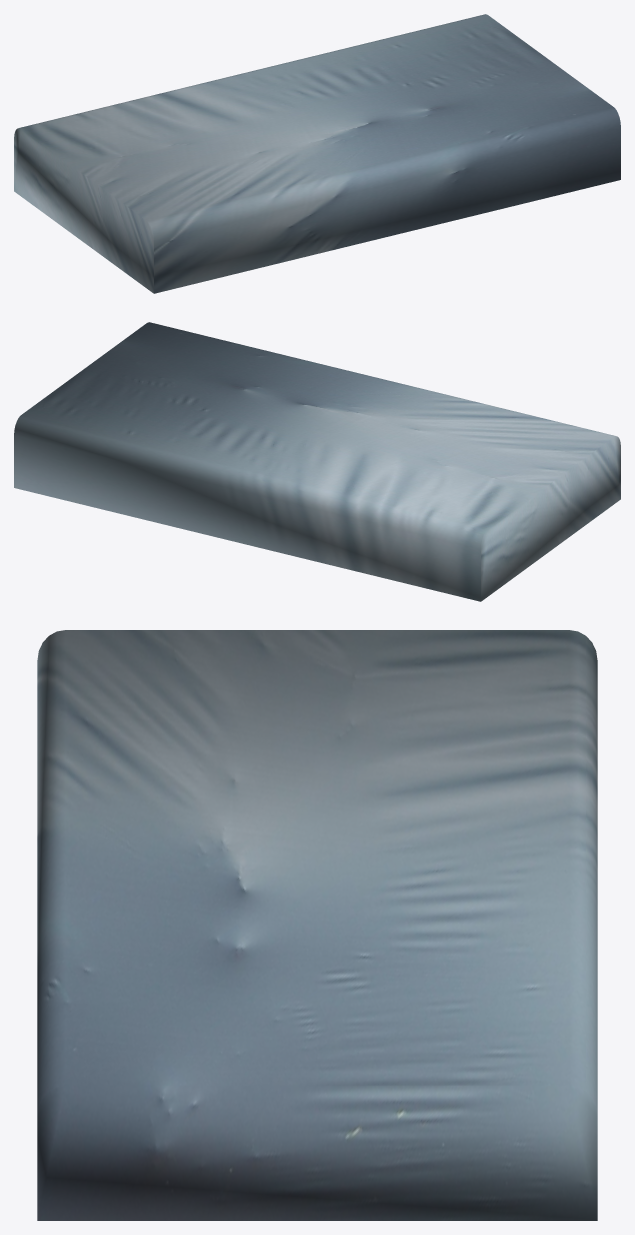
File: bed.dae
3 renders of one model, top to bottom at view 1: azimuth 30°, elevation 25°; view 2: azimuth 150°, elevation 25°; view 3: azimuth 270°, elevation 25°, orthographic. The views are drawn at different scales.
Visible parts, largest first — view 1: Cube; view 2: Cube; view 3: Cube.
Part boxes in pixels (x1,y1,x2,y2): Cube: (14,14,620,293); Cube: (14,322,620,601); Cube: (37,630,597,1220).
Size of the model in its own units: 3.24 by 1.68 by 0.4477.
Materials: 1 (1 with a texture image).
